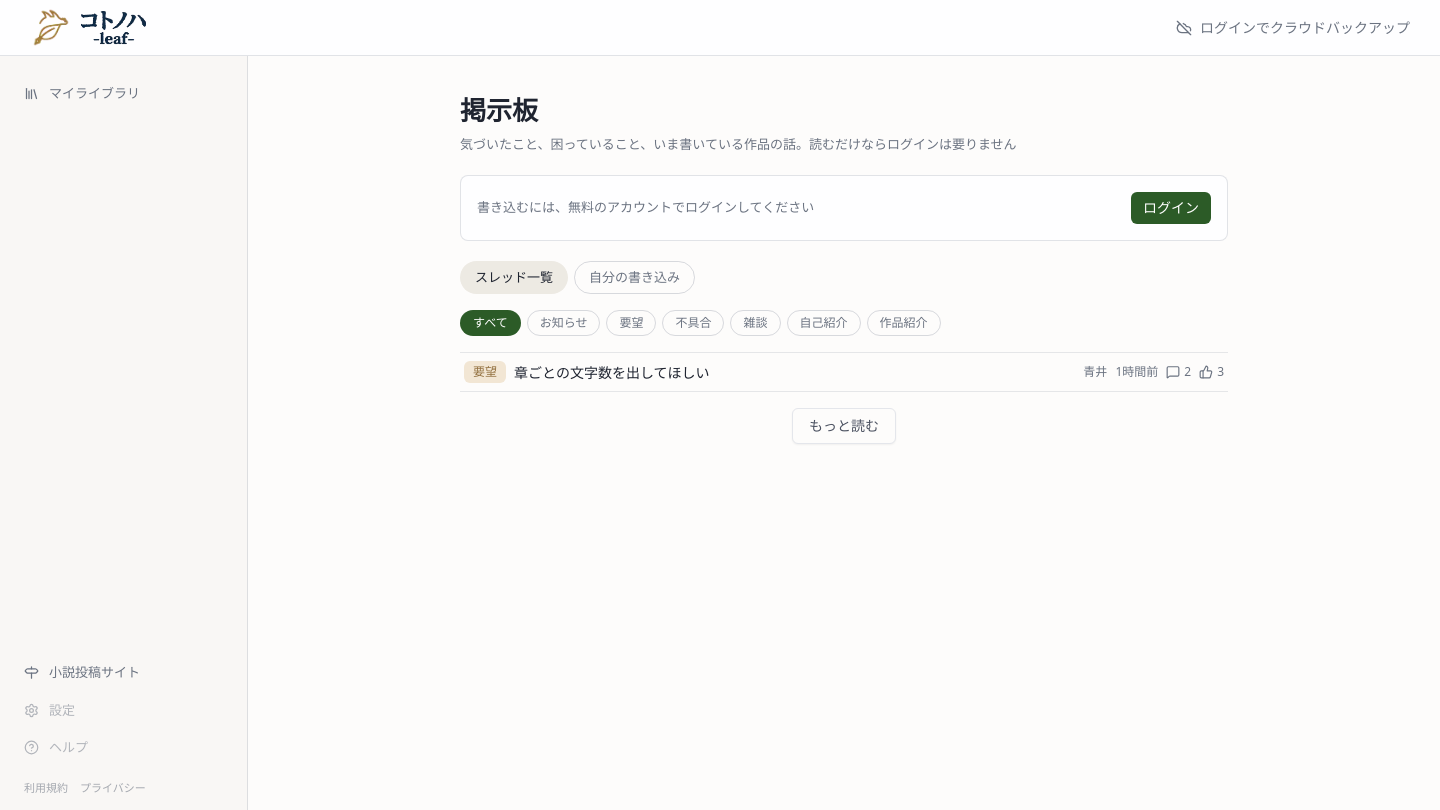
Test: BoardPage（掲示板の一覧） › 続きの取得中に種別を切り替えても、「もっと読む」が押せなくならない
Click the button "もっと読む": (844, 426) x1=792 y1=408 x2=896 y2=444
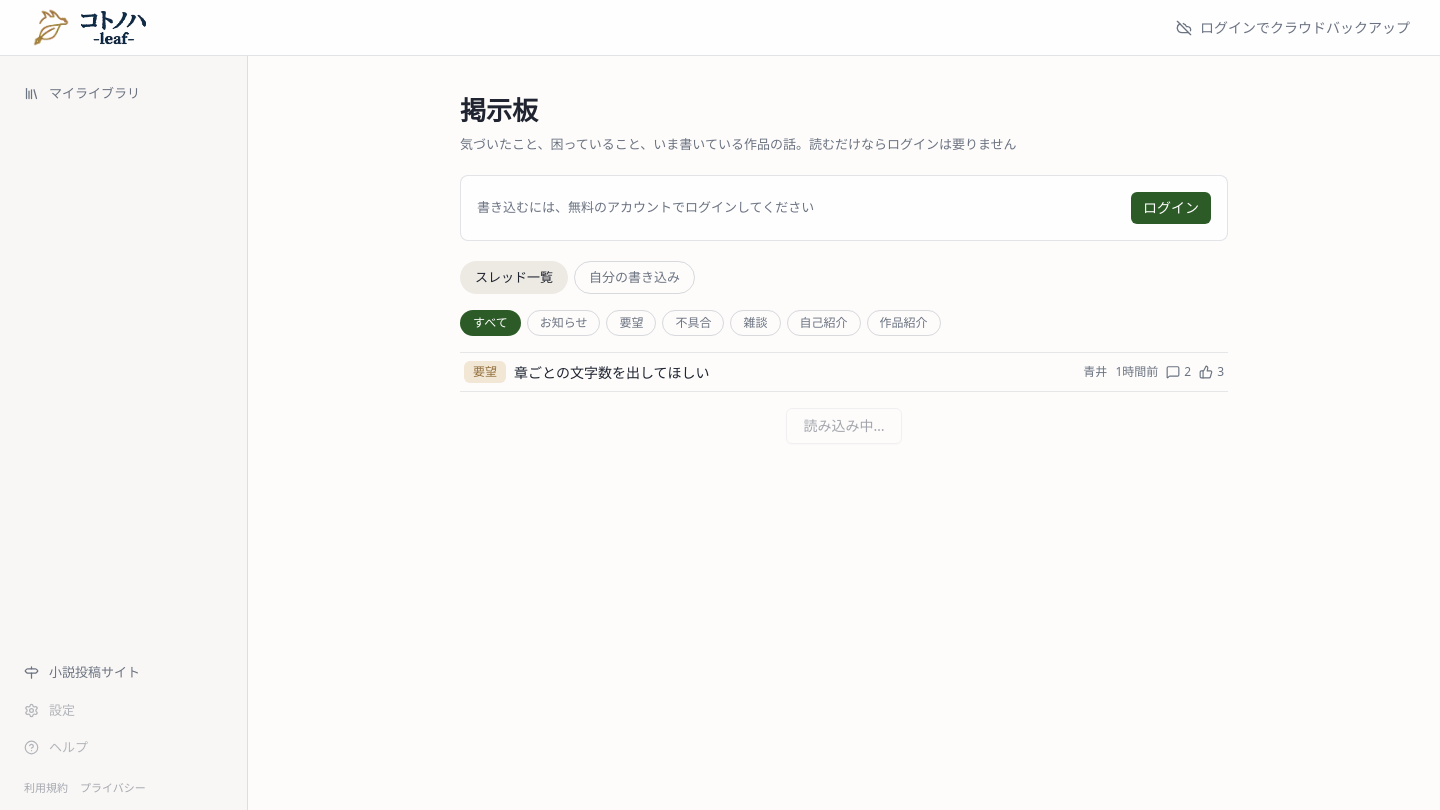
# 追い越し。続きが返る前に一覧が別のものへ入れ替わる。
Click the button "不具合": (694, 323) x1=662 y1=310 x2=724 y2=336
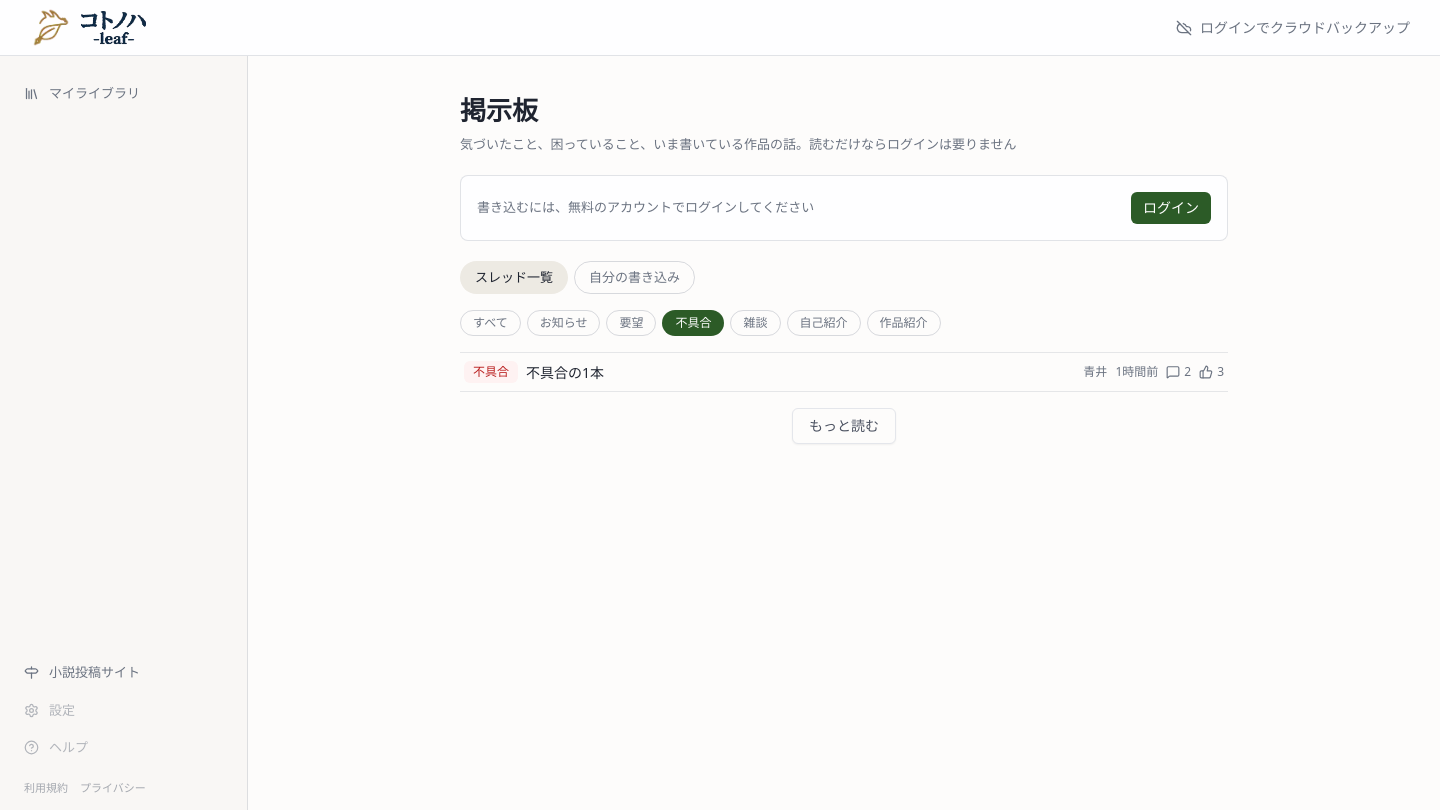
Now the heading "不具合の1本" is shown, box x1=526 y1=362 x2=604 y2=382
Now the button "もっと読む" is enabled, box x1=792 y1=408 x2=896 y2=444
